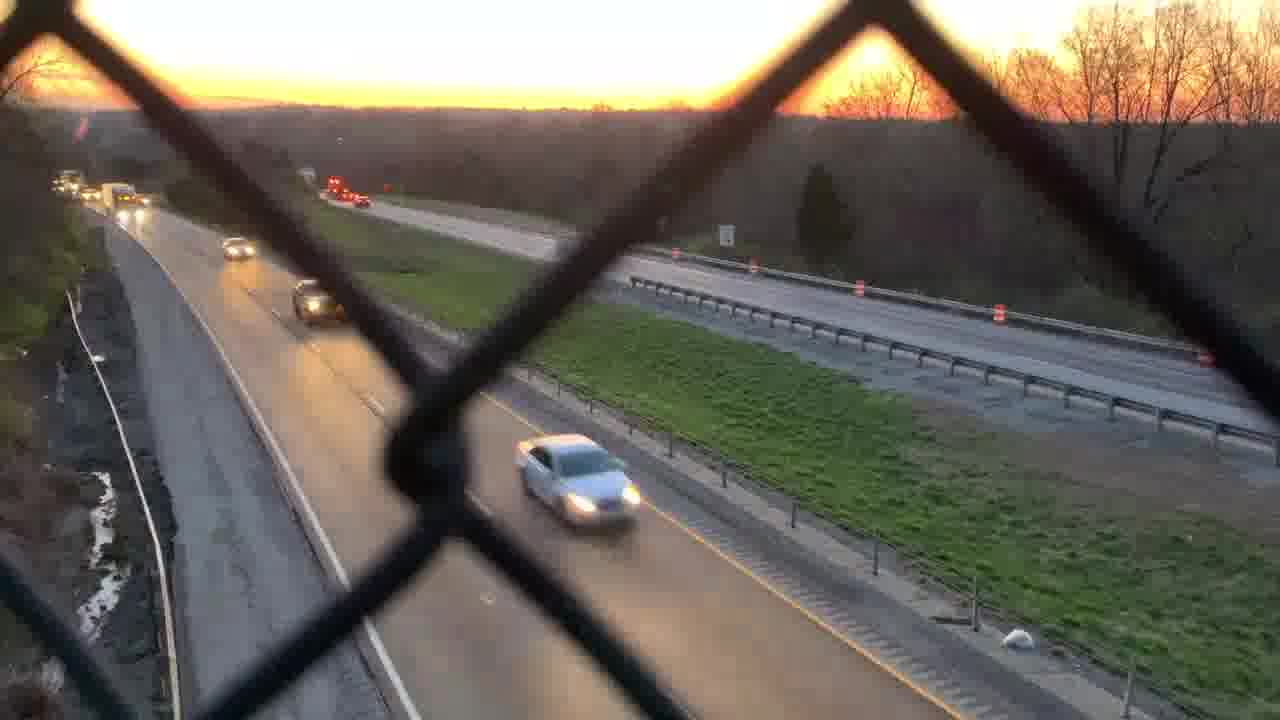smallCar: (513, 427, 648, 537)
